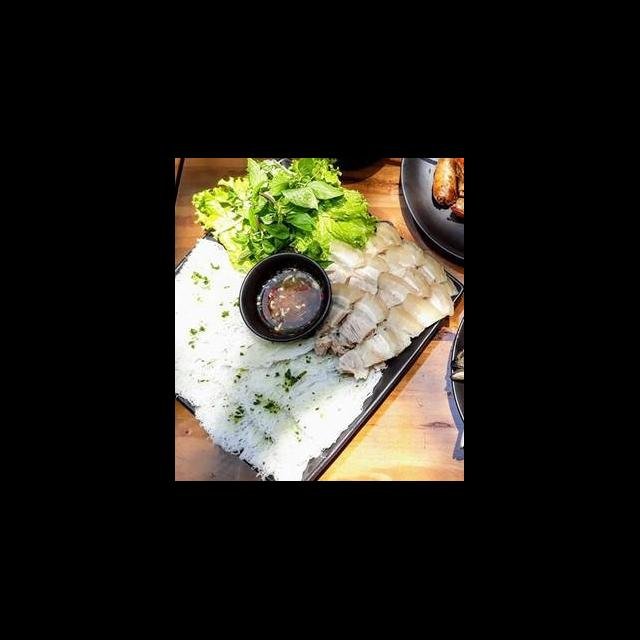banh hoi: (190, 338, 386, 482), (177, 236, 254, 408)
thit heo quay: (318, 238, 446, 342), (312, 278, 428, 384), (360, 220, 460, 322)
